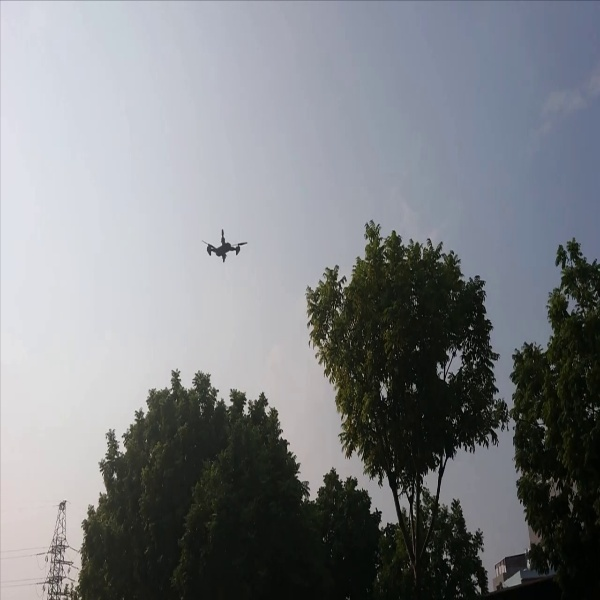drone: (197, 224, 250, 265)
